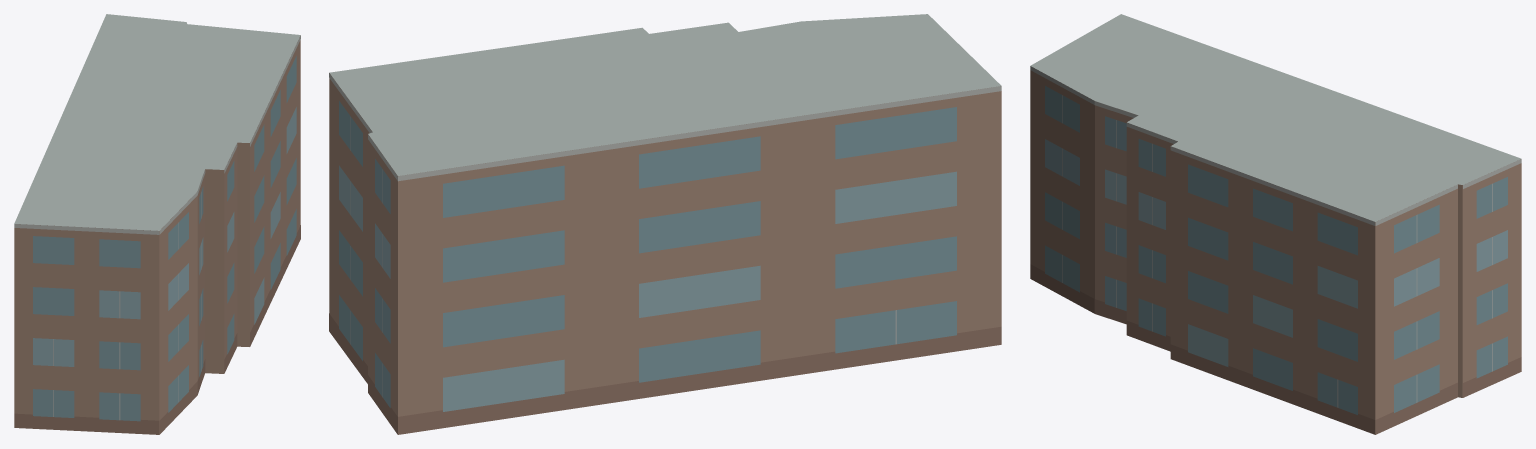
The model's file is survey-upis-32780866.glb.
3 views of the same model, side by side, from view 1: azimuth 30°, elevation 25°; view 2: azimuth 150°, elevation 25°; view 3: azimuth 270°, elevation 25° (orthographic). The views are drawn at different scales.
Parts seen in each view (by area): view 1: survey-upis-32780866.tmp; view 2: survey-upis-32780866.tmp; view 3: survey-upis-32780866.tmp.
Part boxes in pixels (left/top/right/bottom): survey-upis-32780866.tmp: left=14, top=14, right=300, bottom=434; survey-upis-32780866.tmp: left=329, top=14, right=1001, bottom=434; survey-upis-32780866.tmp: left=1030, top=14, right=1521, bottom=434.
Bounding box in the file's own units: 25.78 × 12.3 × 25.74.
